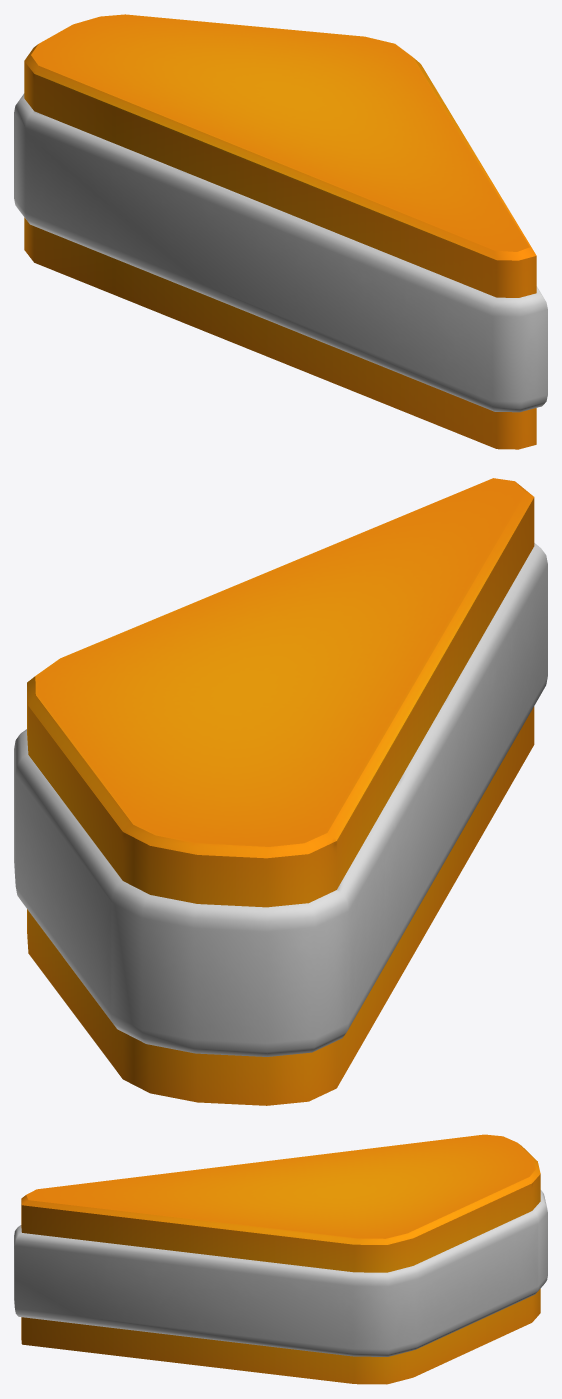
The model's file is block_basic_bumper.fbx.
3 views of the same model, one above another, from view 1: azimuth 30°, elevation 25°; view 2: azimuth 150°, elevation 25°; view 3: azimuth 270°, elevation 25° (orthographic). The views are drawn at different scales.
Visible parts, largest first — view 1: block_basic_bumper, rubber_band; view 2: block_basic_bumper, rubber_band; view 3: block_basic_bumper, rubber_band.
Boxes of the visible parts, bbox=[...] form: block_basic_bumper: bbox=[24, 14, 536, 449]; rubber_band: bbox=[14, 93, 547, 412]; block_basic_bumper: bbox=[27, 478, 534, 1105]; rubber_band: bbox=[14, 543, 547, 1056]; block_basic_bumper: bbox=[21, 1134, 540, 1384]; rubber_band: bbox=[14, 1190, 547, 1356].
Bounding box in the file's own units: 208 × 122 × 410.
Materials: 1 (1 with a texture image).
